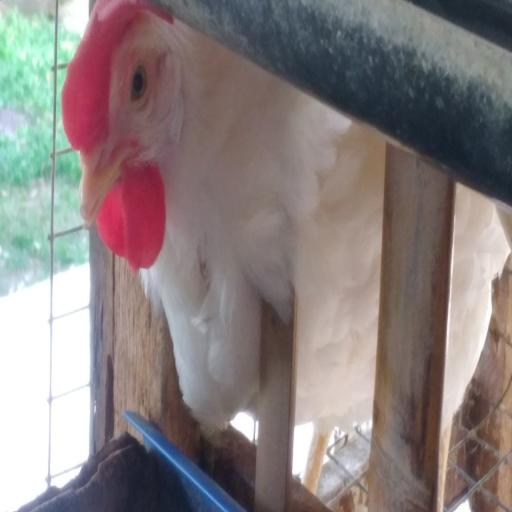healthy: (65, 2, 181, 275)
